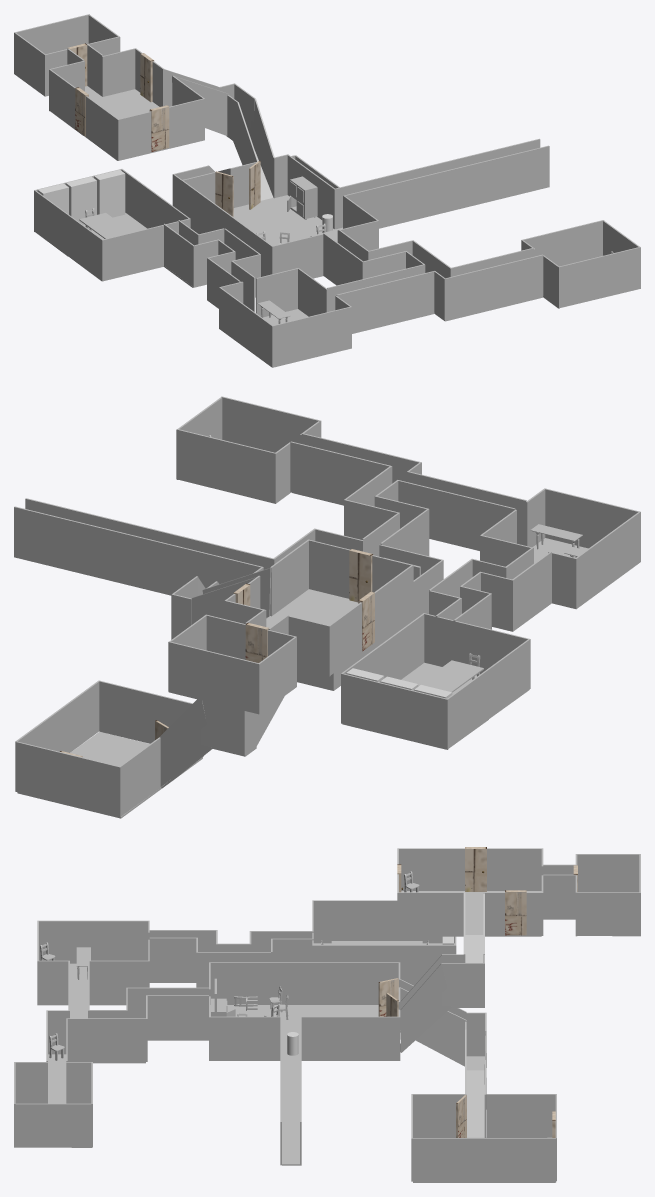
Rendered from game_jam_hosue_5.fbx.
3 views of the same model, one above another, from view 1: azimuth 30°, elevation 25°; view 2: azimuth 150°, elevation 25°; view 3: azimuth 270°, elevation 25° (orthographic). The views are drawn at different scales.
Parts seen in each view (by area): view 1: Cube.051, Cube.049, Cube.114, Cube.104, Cube.121, Cube.067, Cube.066, Cube.112, Cube, Cube.015, Cube.089, Cube.113 (+53 smaller); view 2: Cube.111, Cube.131, Cube.113, Cube.127, Cube.068, Cube.069, Cube.048, Cube.050, Cube.112, Cube.130, Cube.114, Cube.103 (+50 smaller); view 3: Cube.015, Cube.016, Cube.103, Cube.106, Cube.115, Cube.045, Cube.132, Cube.133, Cube.017, Cube.108, Cube.134, Cube.126 (+35 smaller).
Part boxes in pixels (x1,y1,x2,y2): Cube.051: [446, 254, 543, 319]; Cube.049: [336, 271, 434, 332]; Cube.114: [558, 247, 640, 308]; Cube.104: [272, 306, 351, 367]; Cube.121: [117, 98, 204, 160]; Cube.067: [481, 145, 549, 203]; Cube.066: [413, 162, 481, 220]; Cube.112: [101, 218, 190, 281]; Cube: [190, 195, 335, 278]; Cube.015: [181, 180, 272, 276]; Cube.089: [271, 220, 377, 277]; Cube.113: [522, 220, 603, 266]; Cube.111: [341, 673, 448, 749]; Cube.131: [16, 741, 120, 817]; Cube.113: [176, 429, 276, 503]; Cube.127: [168, 641, 258, 713]; Cube.068: [14, 506, 96, 576]; Cube.069: [96, 526, 179, 594]; Cube.048: [398, 480, 515, 550]; Cube.050: [290, 441, 389, 504]; Cube.112: [423, 613, 530, 688]; Cube.130: [99, 681, 192, 743]; Cube.114: [221, 396, 321, 452]; Cube.103: [574, 511, 640, 607]; Cube.015: [210, 962, 400, 1004]; Cube.016: [300, 1016, 400, 1059]; Cube.103: [37, 920, 149, 963]; Cube.106: [37, 960, 148, 1003]; Cube.115: [14, 1103, 92, 1147]; Cube.045: [66, 1018, 145, 1061]; Cube.132: [411, 1138, 483, 1182]; Cube.133: [484, 1138, 556, 1182]; Cube.017: [209, 1016, 281, 1059]; Cube.108: [313, 900, 384, 943]; Cube.134: [486, 1094, 556, 1137]; Cube.126: [575, 892, 640, 936].
Bounding box in the file's own units: 9072 × 3934 × 10840.
